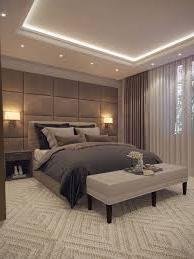bed: (30, 121, 146, 209)
light: (2, 107, 24, 133), (100, 110, 114, 137), (174, 45, 186, 63), (109, 63, 124, 75), (56, 50, 69, 62), (12, 41, 26, 52), (0, 5, 9, 22), (86, 57, 97, 68), (150, 59, 156, 68)
table: (82, 160, 188, 225), (2, 147, 33, 179)
